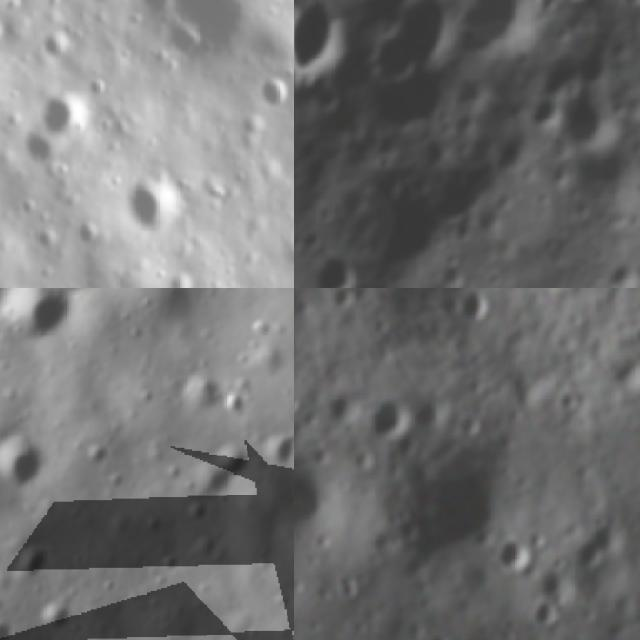crater: (388, 441, 514, 573), (294, 0, 357, 108), (189, 433, 258, 504), (0, 288, 67, 353), (570, 510, 621, 580), (126, 173, 184, 234), (294, 454, 337, 533), (0, 430, 50, 491), (403, 387, 451, 434), (363, 390, 408, 440), (176, 371, 222, 417), (254, 425, 294, 476), (495, 530, 535, 580), (30, 598, 76, 640), (15, 544, 57, 590), (39, 96, 81, 136), (255, 76, 294, 115), (453, 288, 494, 325), (524, 88, 564, 124), (324, 387, 358, 429), (214, 388, 249, 426), (529, 600, 561, 634), (325, 288, 356, 311), (83, 445, 111, 466), (424, 629, 450, 640)
